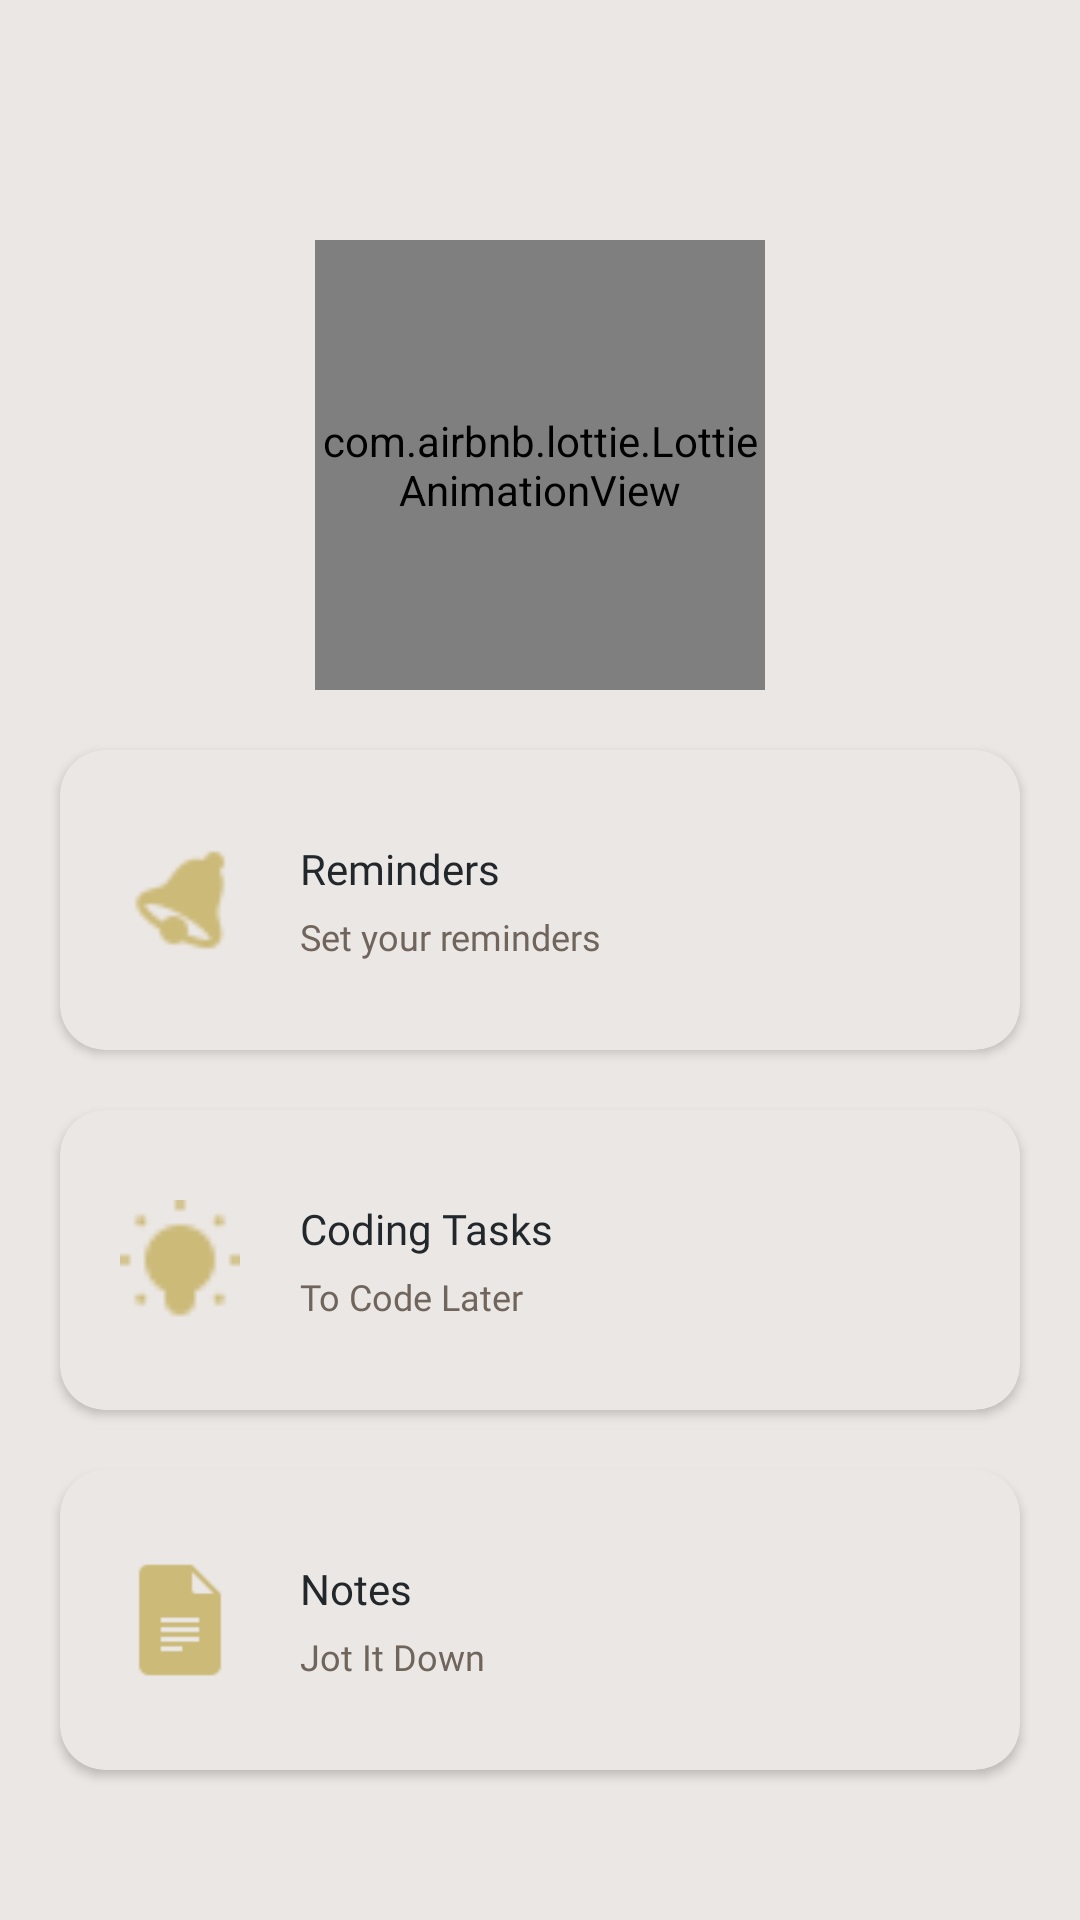

Named icons in this screenshot (1080×1920) and their bounding boxes, (x1, y1, x2, y2):
bulb: (120, 1200, 240, 1316)
docs: (139, 1564, 221, 1676)
